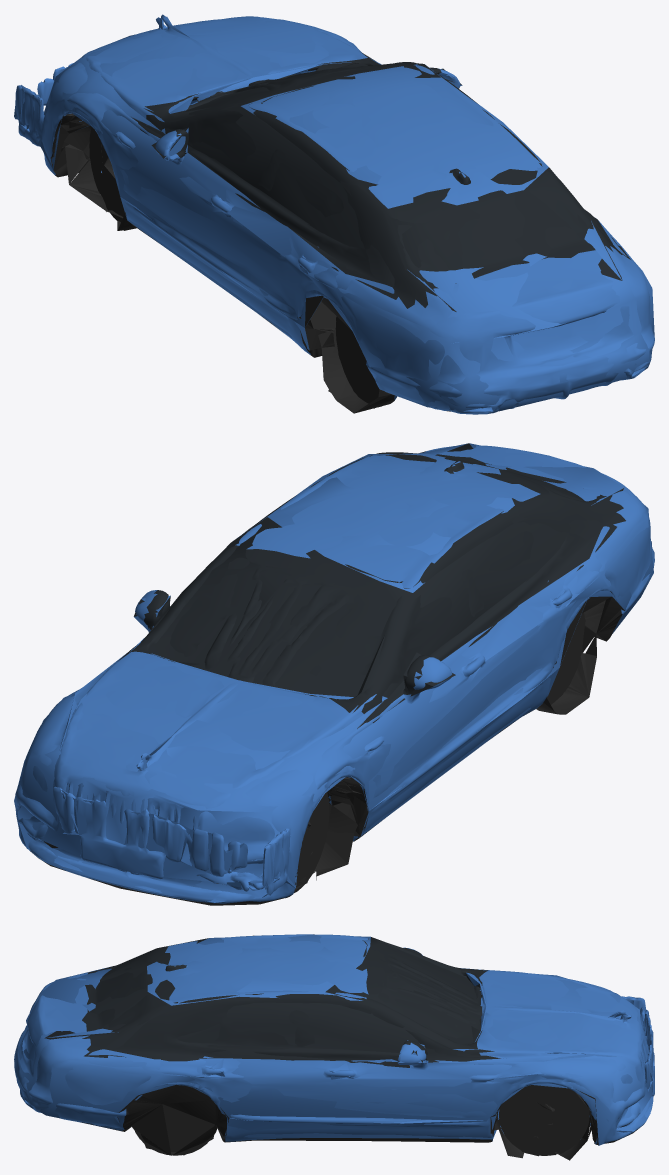
File: bentley-flying-spur.glb
3 renders of one model, top to bottom at view 1: azimuth 30°, elevation 25°; view 2: azimuth 150°, elevation 25°; view 3: azimuth 270°, elevation 25°, orthographic. The views are drawn at different scales.
Parts seen in each view (by area): view 1: body, far; view 2: body, far; view 3: body, far.
Boxes of the visible parts, x1,y1,x2,y2 form: body: (14,14,654,414); far: (20,16,654,411); body: (15,445,654,905); far: (14,443,653,902); body: (14,934,654,1160); far: (14,935,652,1155).
Size of the model in its own units: 2.16 by 1.48 by 5.35.
